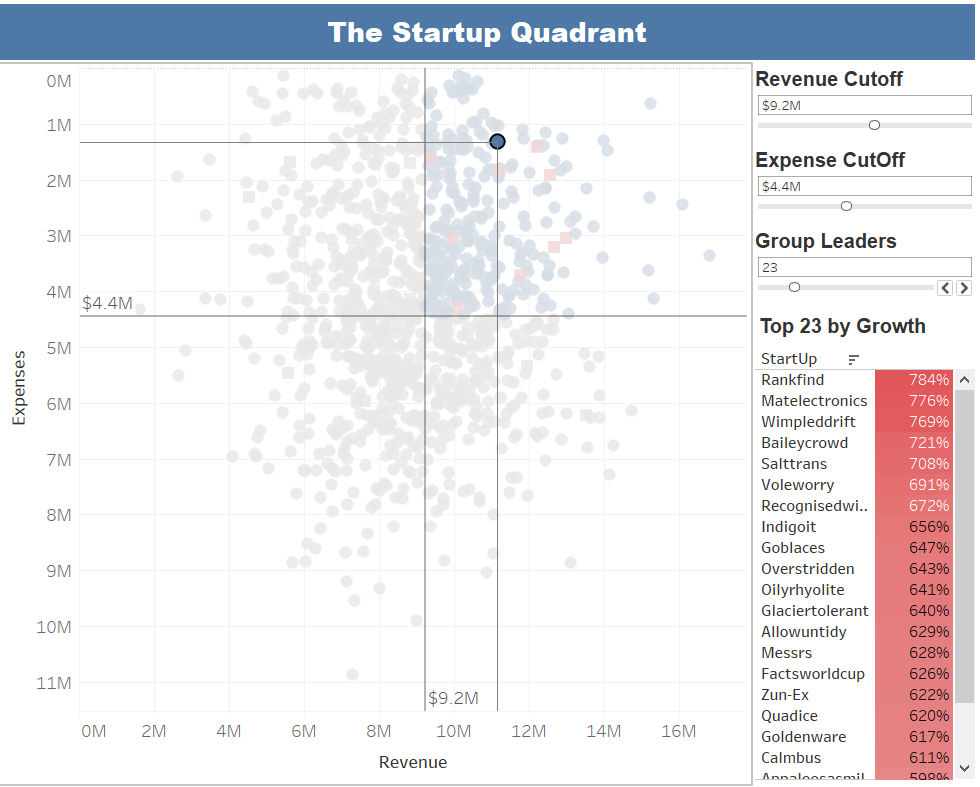

This screenshot's page, from the dashboard's own definition file:
{"tool":"tableau","page":{"name":"The Startup Quadrant","canvas":[1000,800],"ordinal":0},"visuals":[{"type":"text","box":[8,8,984,64]},{"type":"worksheet","title":"ScatterPlot","mark":"Shape","rows":["2015 Expenses"],"cols":["2015 Revenue"],"box":[8,72,756,720]},{"type":"parameter","param":"[Parameters].[Parameter 2]","box":[764,72,228,81]},{"type":"parameter","param":"[Parameters].[Parameter 3]","box":[764,153,228,81]},{"type":"parameter","param":"[Parameters].[Parameter 1]","box":[764,234,228,81]},{"type":"worksheet","title":"Growth","mark":"Square","rows":["Name"],"box":[764,315,228,477]}]}

Visuals, with their boxes in screenshot pixels (x1, y1, x2, y2), scaled from the page's 1000x800 canvas onto the 980x787 screenshot:
text: box(8, 8, 972, 71)
"ScatterPlot" worksheet (Shape marks): box(8, 71, 749, 779)
parameter: box(749, 71, 972, 151)
parameter: box(749, 151, 972, 230)
parameter: box(749, 230, 972, 310)
"Growth" worksheet (Square marks): box(749, 310, 972, 779)
